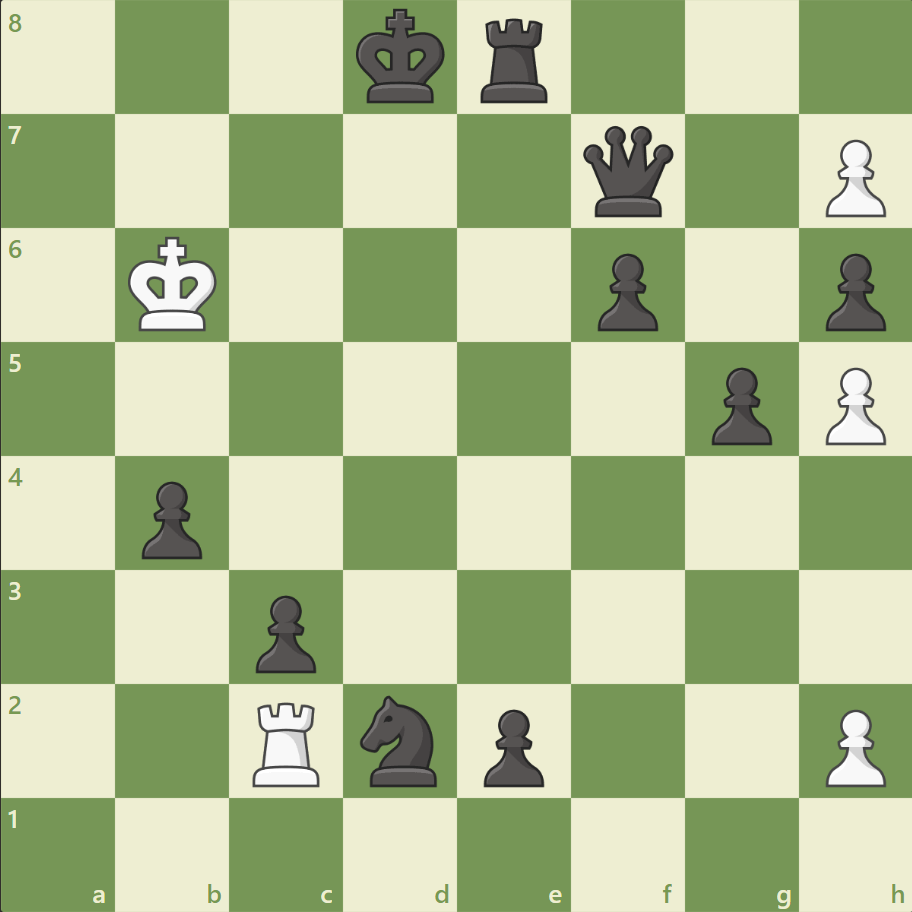K: (124, 231, 224, 339)
P: (815, 132, 889, 223), (815, 359, 889, 450), (815, 700, 889, 791)
R: (246, 693, 329, 790)
k: (351, 4, 451, 112)
n: (351, 688, 449, 791)
p: (701, 359, 776, 450), (133, 473, 208, 564), (247, 586, 322, 677), (474, 700, 549, 791), (588, 246, 662, 337), (815, 246, 889, 337)
q: (578, 122, 677, 222)
r: (473, 12, 556, 109)
